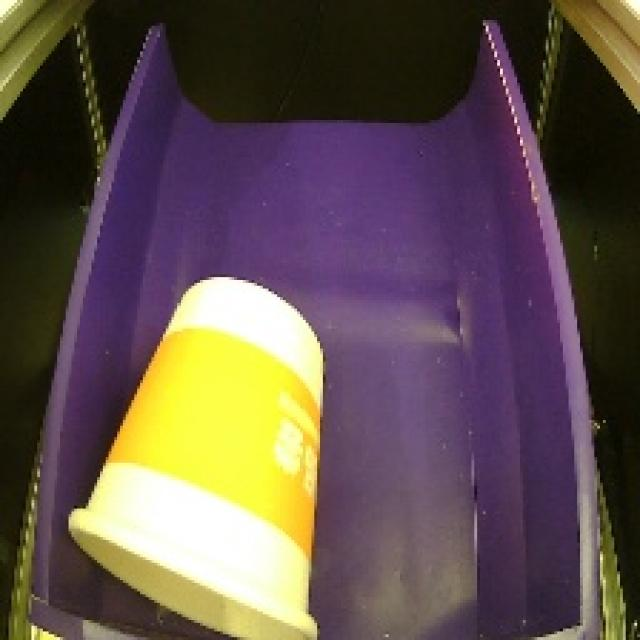cups: (57, 263, 334, 640)
